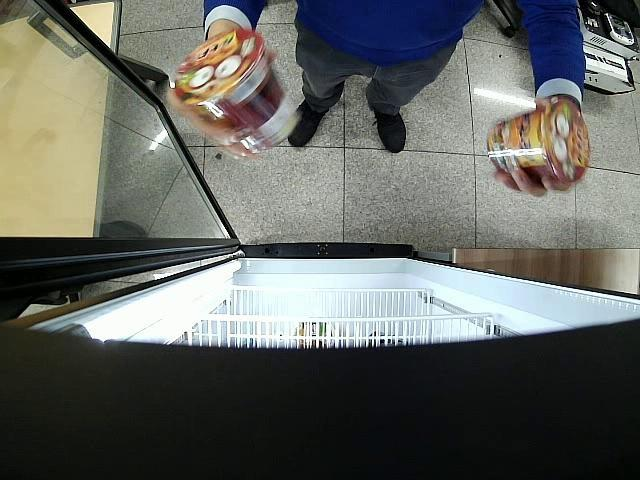06_nuguri_S: (169, 30, 301, 151), (487, 100, 590, 184)
